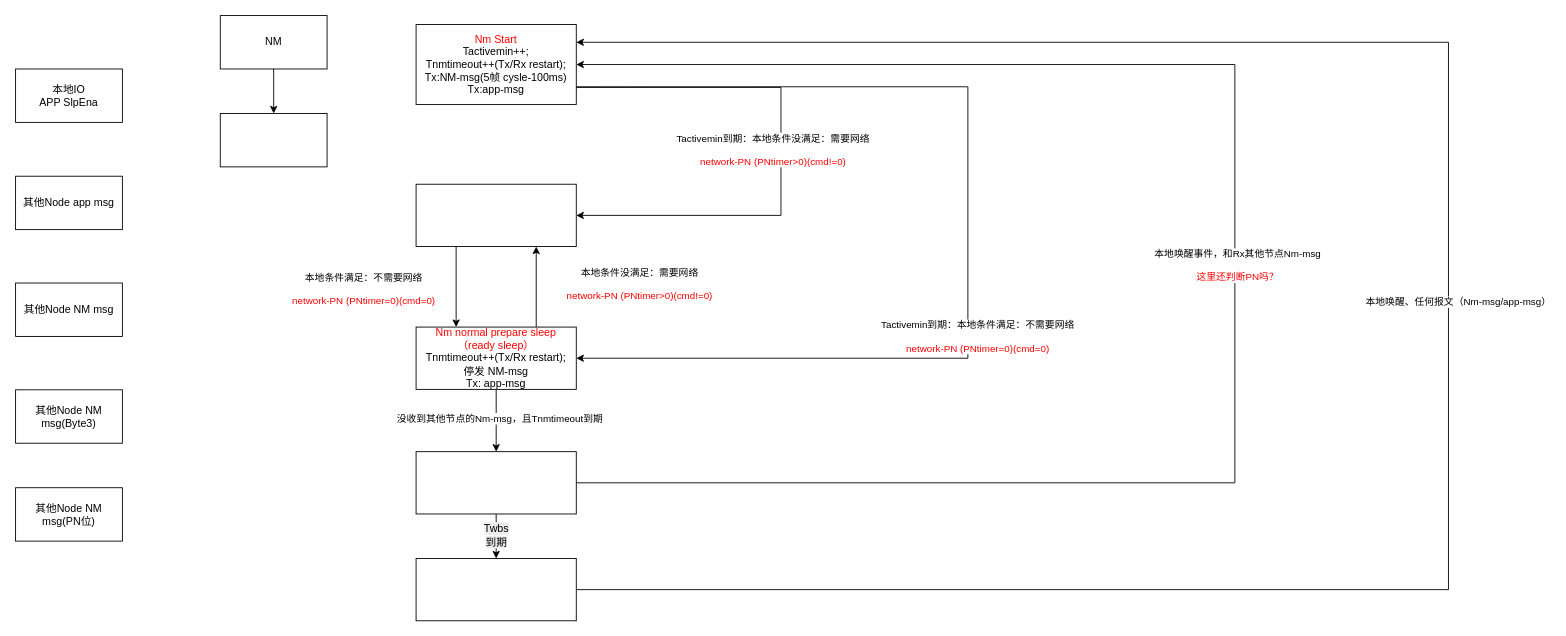
The diagram is 1566 pixels wide and 636 high, and some of its shapes have lost their labels. The box of each missing label's shape, as (x1, y1, x2, y2) in pixels:
bus sleep NM-msg( x) App-msg(x): (415, 558, 576, 621)
CanNM: (219, 113, 327, 167)
Nm normal Tnmtimeout++(Tx/Rx restart); Tx:NM-msg Tx:app-msg: (415, 183, 576, 247)
Nm wait bus sleep (prepare bus sleep) Twbs++ NM-msg( x) App-msg(x): (415, 451, 576, 514)
